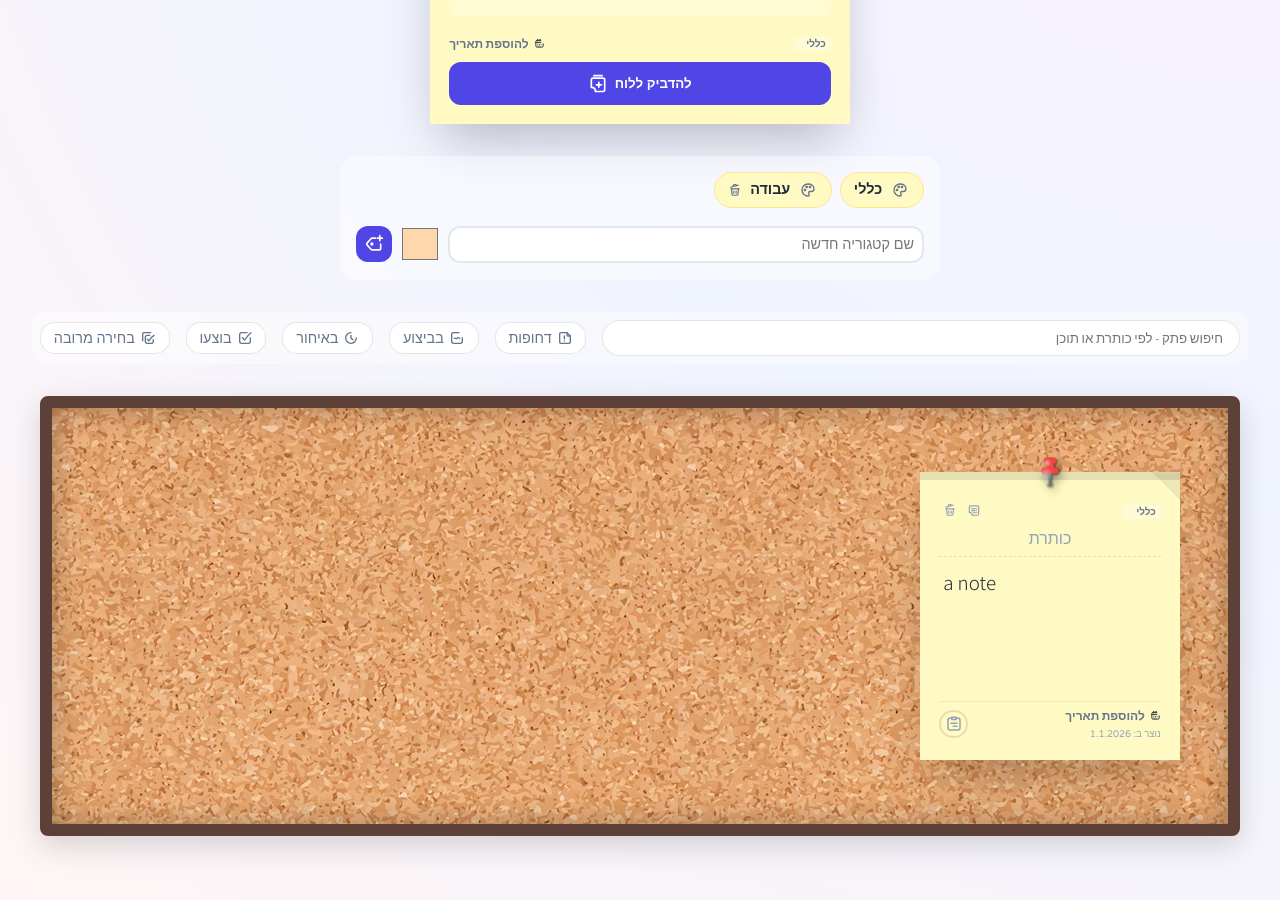
it: note status › cycles from pending to in progress to completed and back to pending
This screenshot has width=1280, height=900.
(page scrolled)
Click the button named "לסמן כ-'בביצוע'" at (954, 724), box [939,710,968,738]
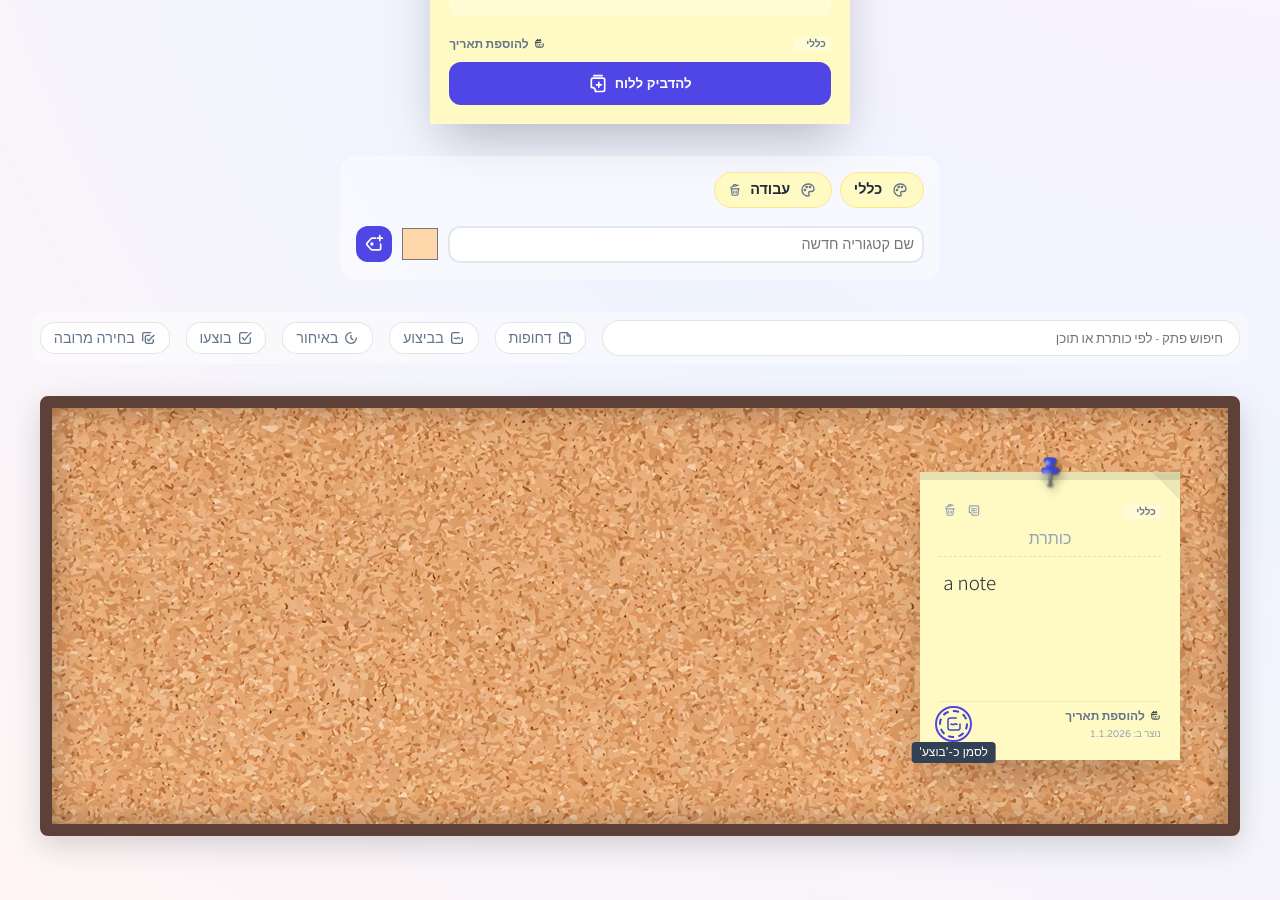
Click the button named "לסמן כ-'בוצע'" at (954, 724), box [939,710,968,738]
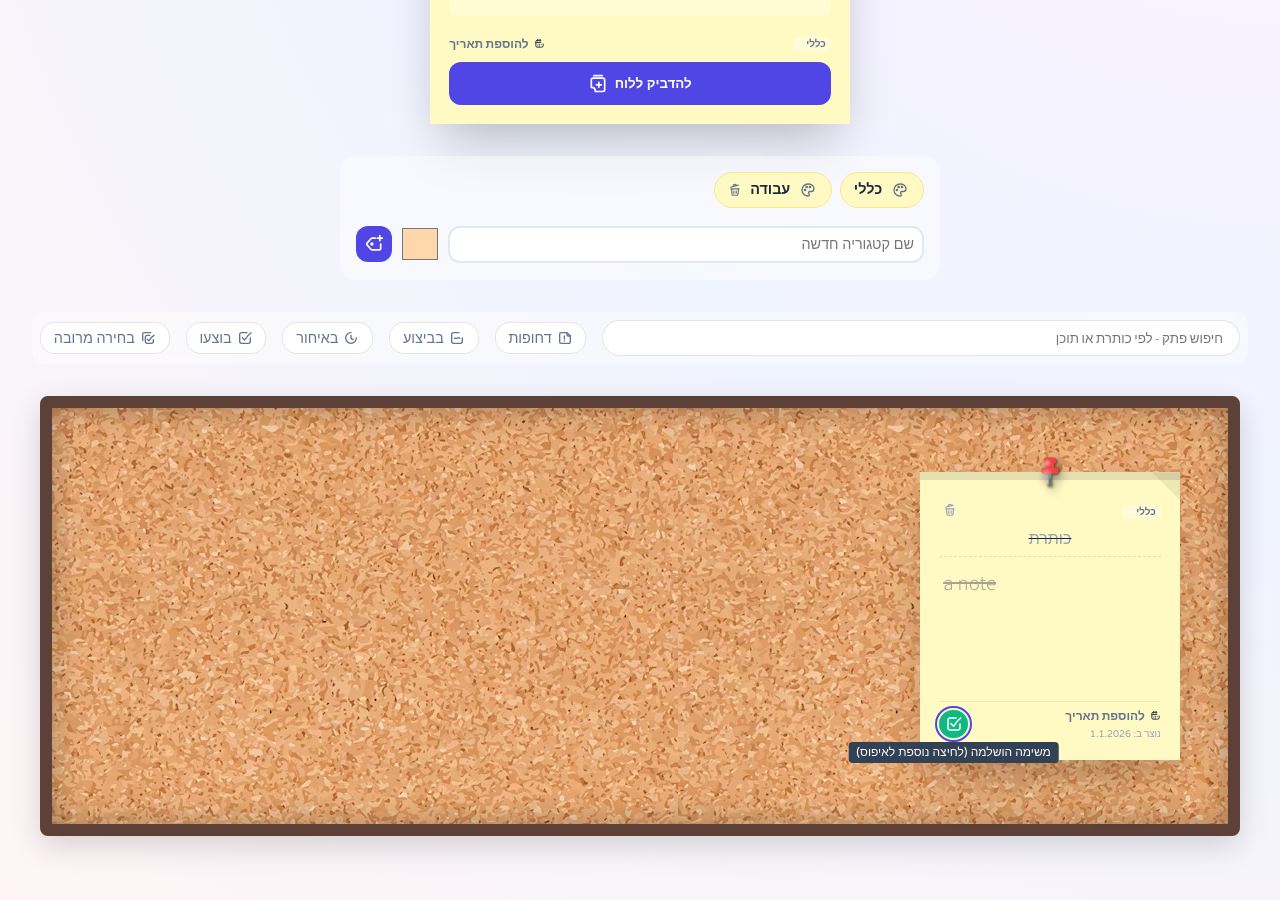
Click the button named "משימה הושלמה (לחיצה נוספת לאיפוס)" at (954, 724), box [939,710,968,738]
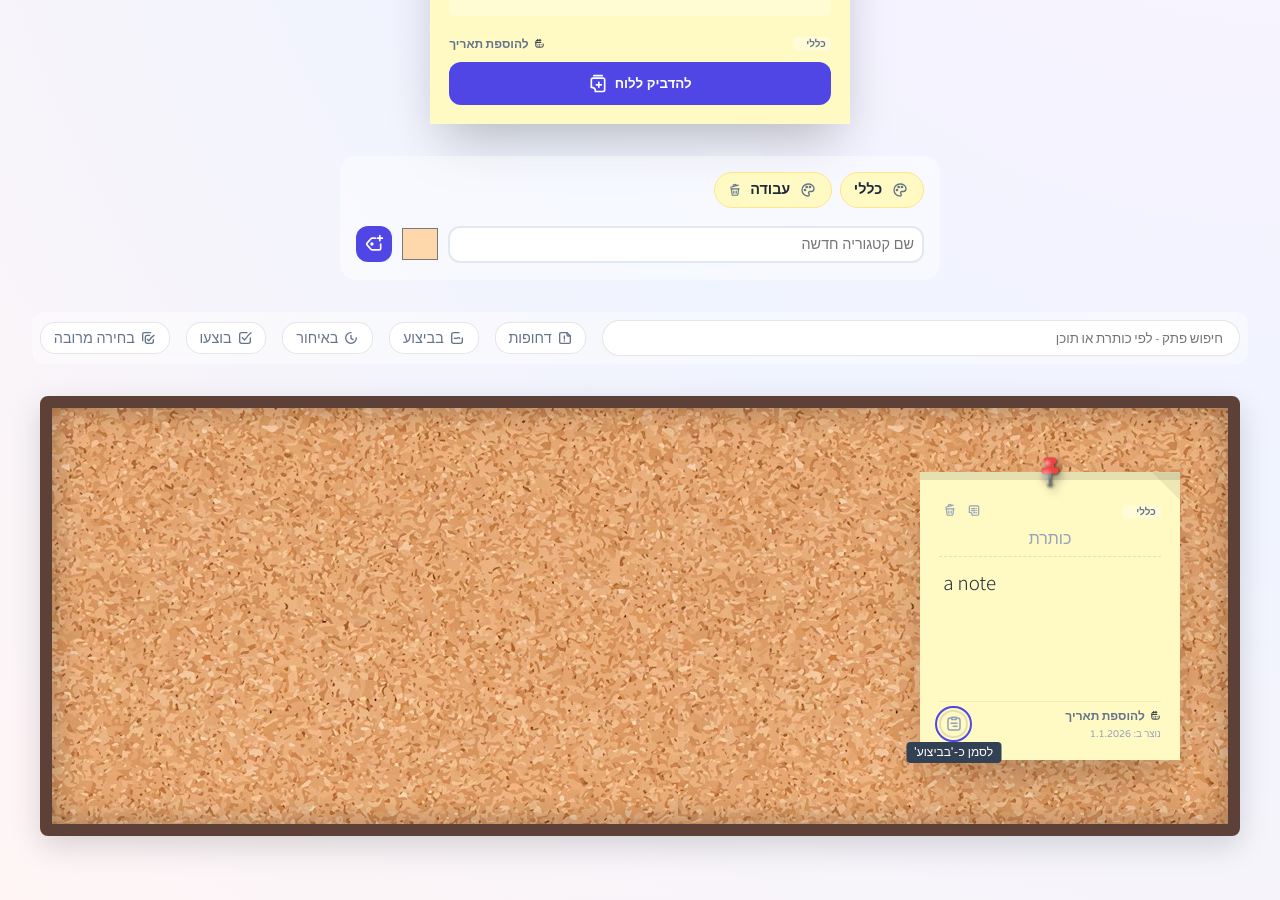
Expected: the button named "לסמן כ-'בביצוע'" is shown, [939,710,968,738]
